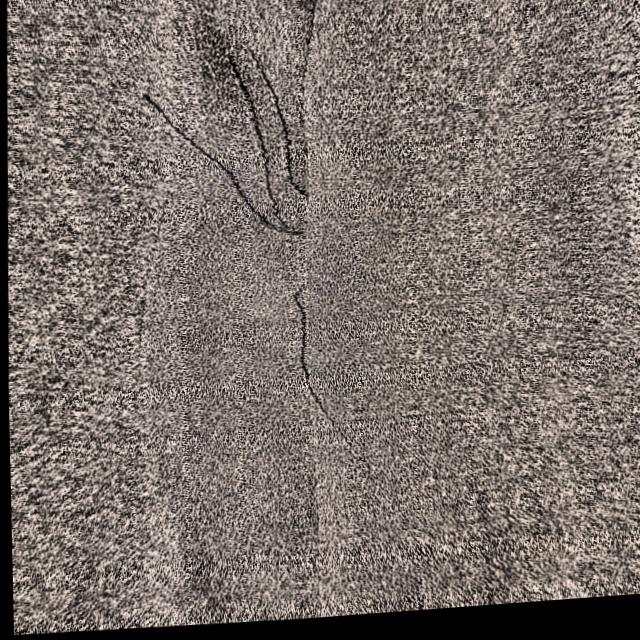Stitch: (110, 25, 335, 460)
